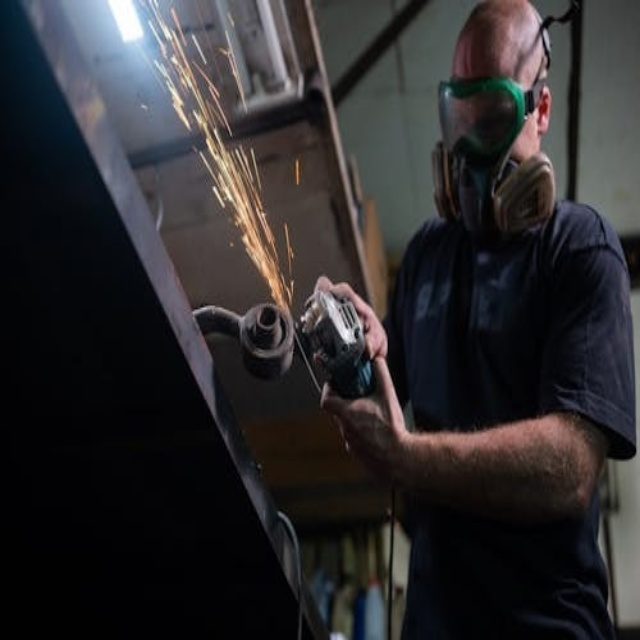Gafas: (428, 60, 553, 161)
Mascara: (426, 133, 562, 250)
Sin_guantes: (320, 365, 415, 500), (303, 256, 394, 361)
